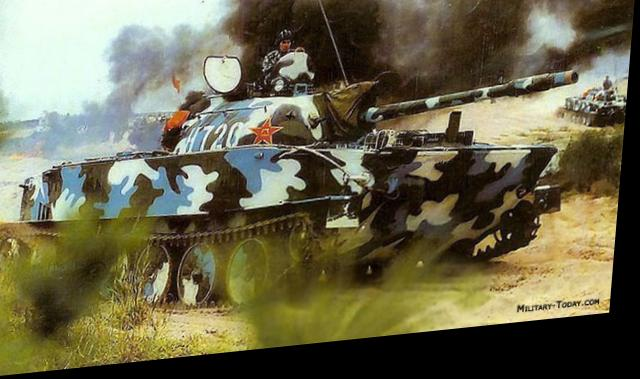other: (261, 30, 296, 91), (604, 84, 615, 102)
tank: (0, 62, 568, 315), (567, 97, 629, 139)
